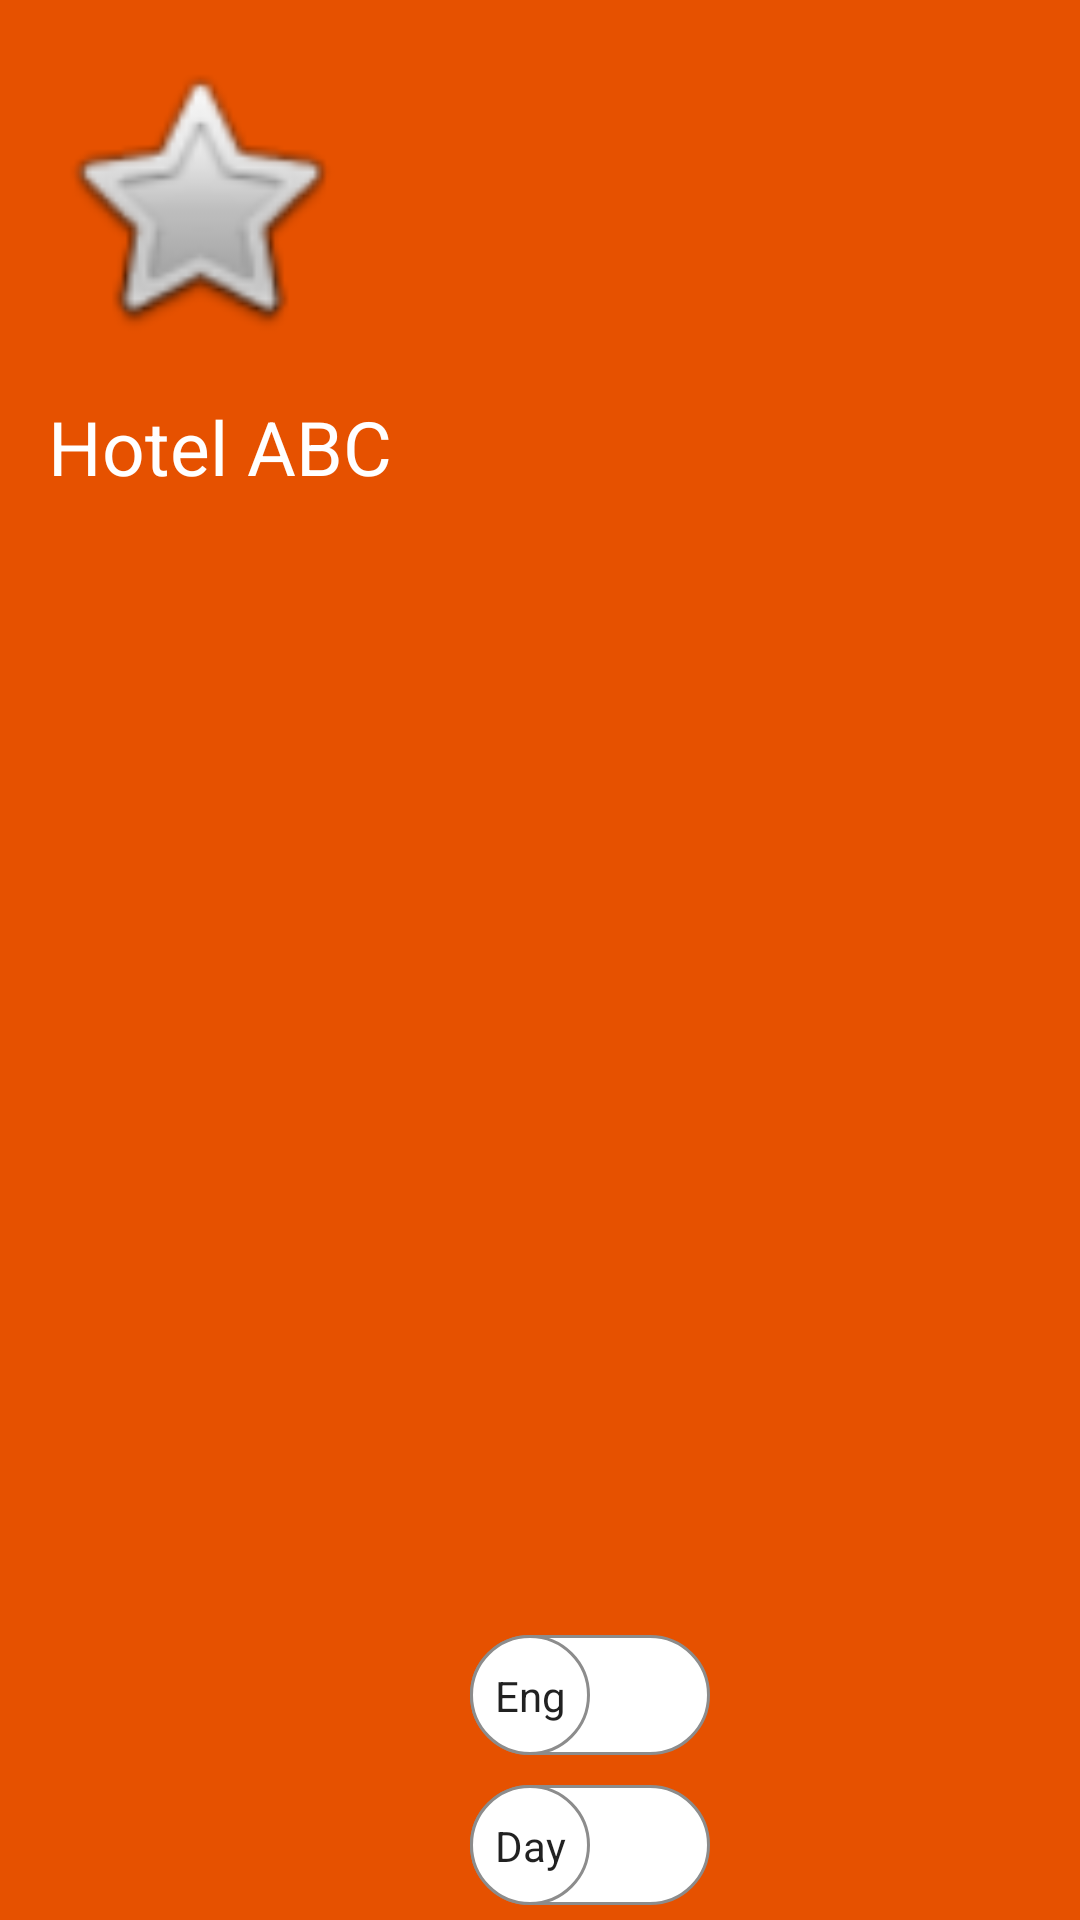

Where icons sit on this 1080w x 1920h app screen, as [x1, y1, x2, y2]:
star: [76, 78, 326, 322]
